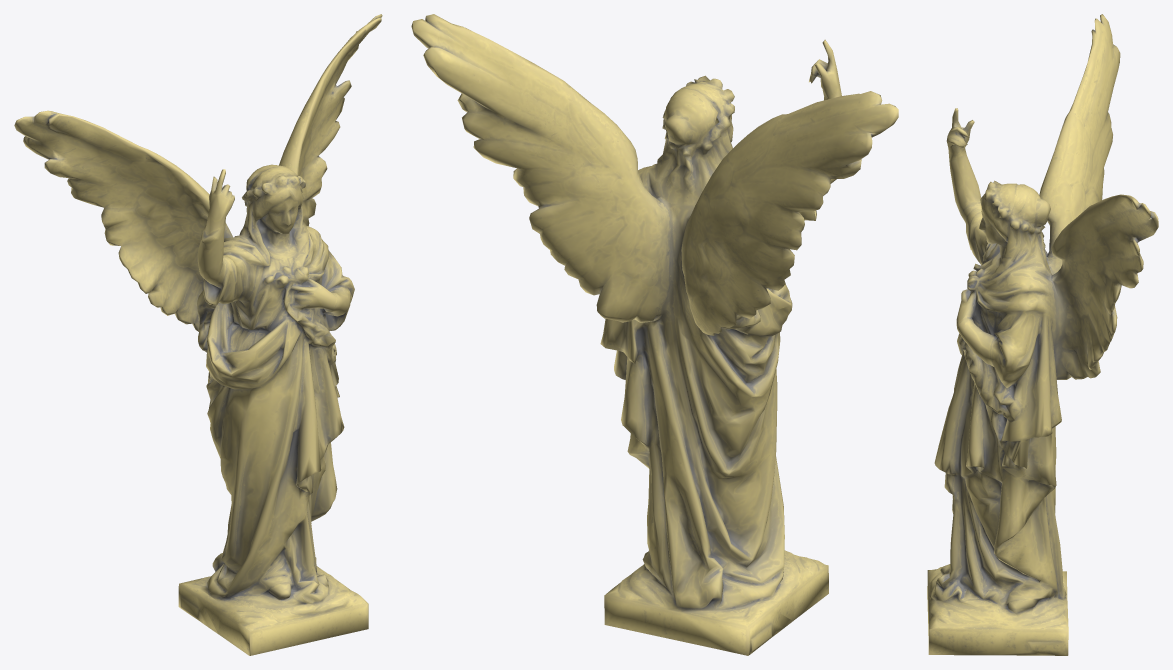
Rendered from vbt5gh.fbx.
The picture shows the model from 3 angles, left to right: view 1: azimuth 30°, elevation 25°; view 2: azimuth 150°, elevation 25°; view 3: azimuth 270°, elevation 25°; orthographic projection. The views are drawn at different scales.
Visible parts, largest first — view 1: SilverAngel_LP; view 2: SilverAngel_LP; view 3: SilverAngel_LP.
Boxes of the visible parts, x1,y1,x2,y2 form: SilverAngel_LP: [14, 14, 382, 655]; SilverAngel_LP: [411, 14, 898, 655]; SilverAngel_LP: [927, 14, 1158, 655].
Bounding box in the file's own units: 677 × 861 × 348.
Materials: 1 (1 with a texture image).
